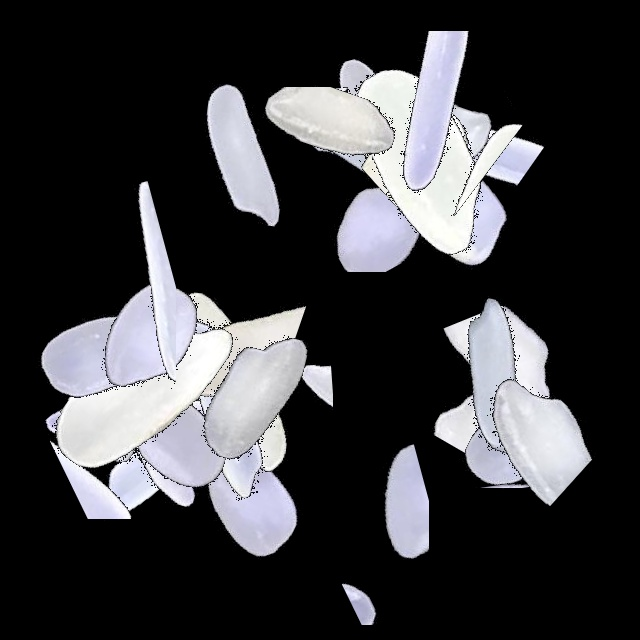Broken: (158, 72, 408, 245), (338, 31, 588, 204), (427, 292, 600, 542), (390, 306, 640, 475), (0, 290, 250, 459), (325, 49, 575, 217), (239, 109, 489, 272), (192, 87, 442, 240), (220, 96, 470, 232), (2, 396, 252, 532), (295, 388, 429, 638), (314, 90, 564, 222), (101, 267, 351, 399), (369, 331, 619, 460), (48, 170, 176, 420), (26, 340, 276, 460), (0, 401, 250, 519), (120, 260, 229, 510), (157, 242, 261, 492), (104, 229, 206, 479), (239, 285, 333, 535), (386, 396, 636, 488), (306, 124, 556, 216), (67, 265, 158, 515), (298, 7, 388, 257), (264, 536, 514, 625), (125, 250, 213, 500), (355, 89, 605, 171), (391, 329, 468, 579)
Full: (126, 381, 376, 631), (7, 304, 257, 554), (97, 254, 347, 504), (48, 245, 298, 495), (233, 11, 483, 261), (45, 323, 295, 573), (338, 91, 588, 341), (390, 313, 640, 563), (14, 296, 264, 546), (371, 251, 621, 501), (27, 275, 277, 525), (250, 0, 500, 250), (312, 21, 562, 271), (98, 281, 348, 531), (299, 37, 549, 287), (0, 265, 250, 515), (0, 223, 250, 473), (50, 314, 300, 564), (16, 264, 266, 514), (130, 270, 380, 520), (26, 213, 276, 463)
